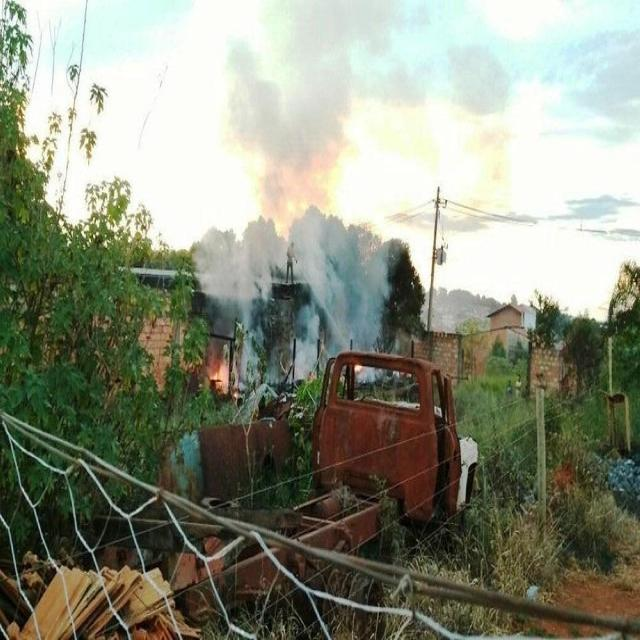Fire: (208, 354, 227, 392)
